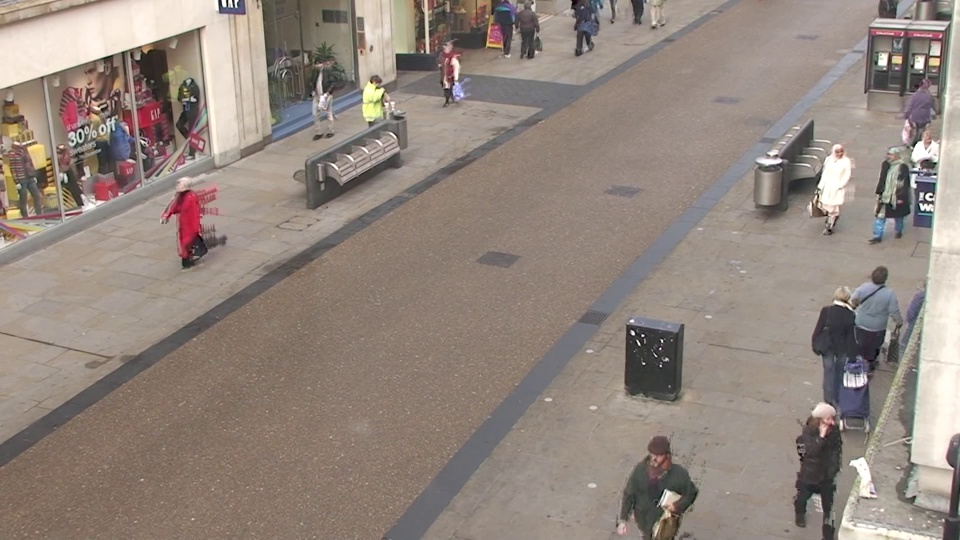pedestrian: (792, 393, 854, 540), (812, 278, 865, 418), (848, 261, 902, 396), (627, 430, 686, 540), (899, 127, 946, 230), (868, 144, 913, 250), (168, 172, 212, 280), (815, 139, 856, 243), (897, 75, 940, 165), (363, 72, 393, 154), (309, 54, 338, 131), (436, 40, 462, 114)
